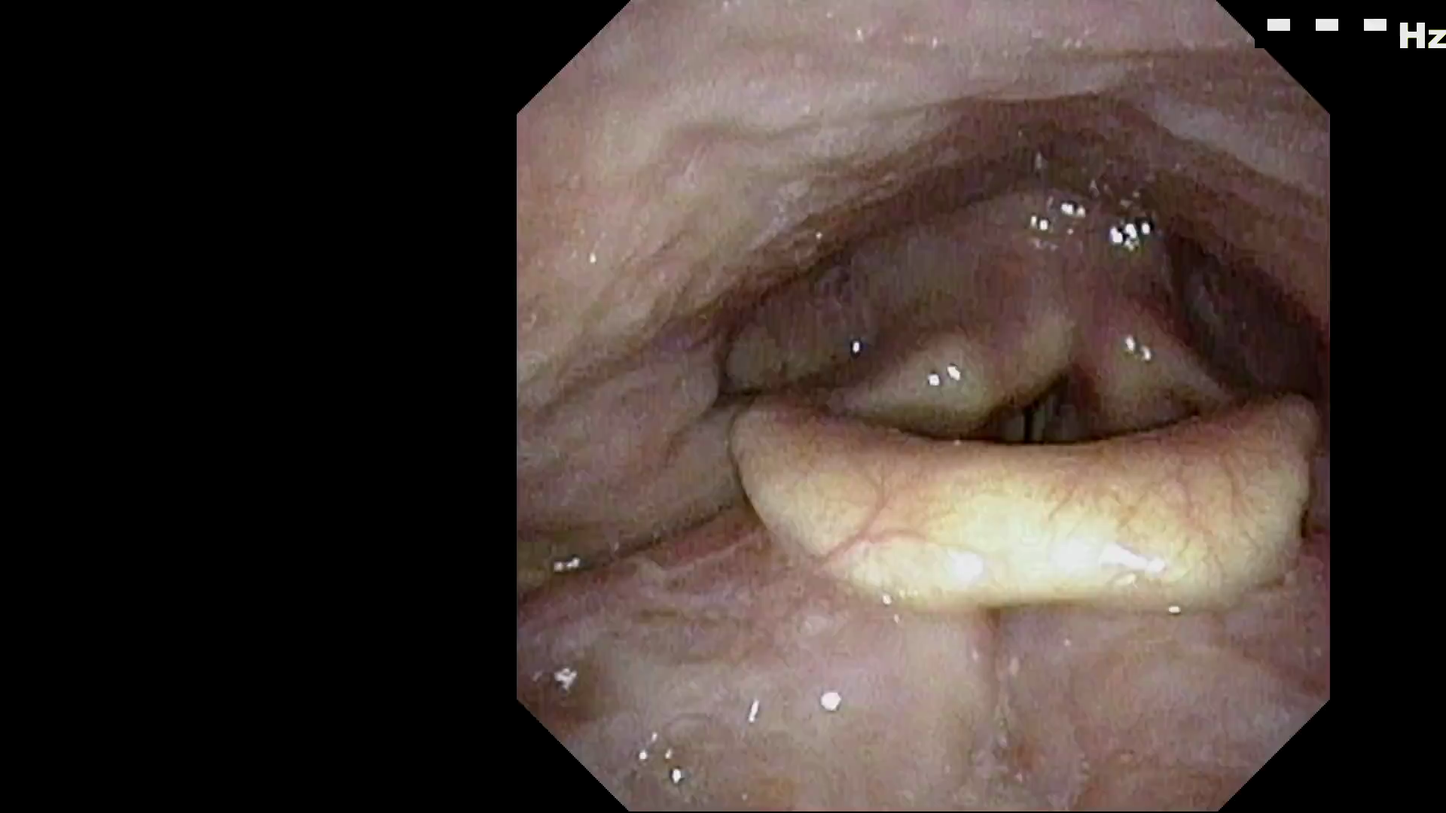epiglottis: (715, 363, 1318, 623)
trachea: (989, 354, 1088, 478)
